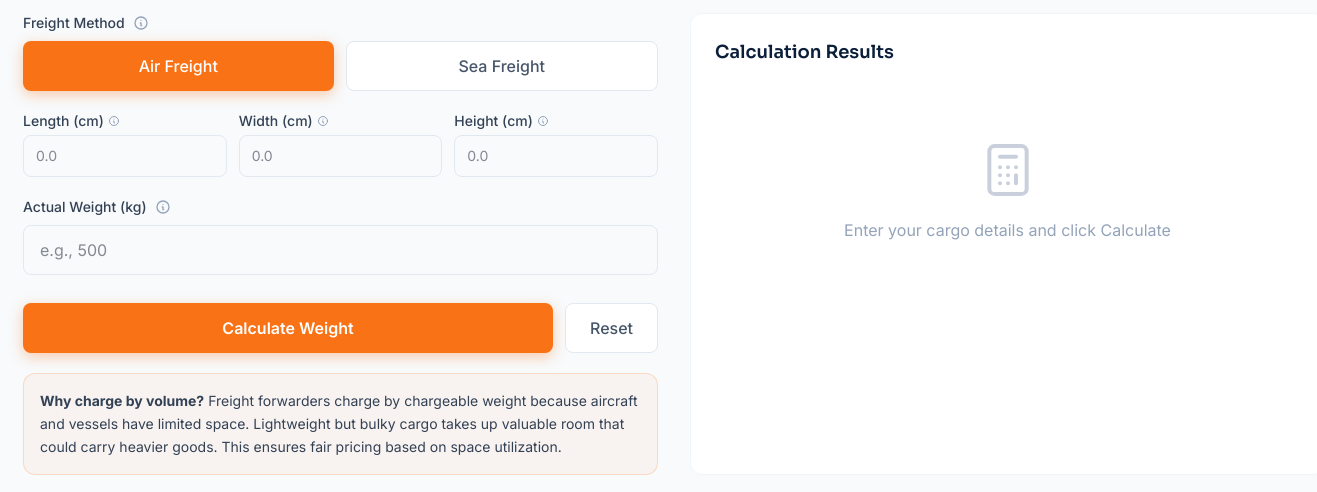
Test: ChargeableWeightCalculator › calculates dimensional weight correctly for air freight
Type "100" into the number field named "length in centimeters" at (125, 156), box x1=23 y1=135 x2=227 y2=177
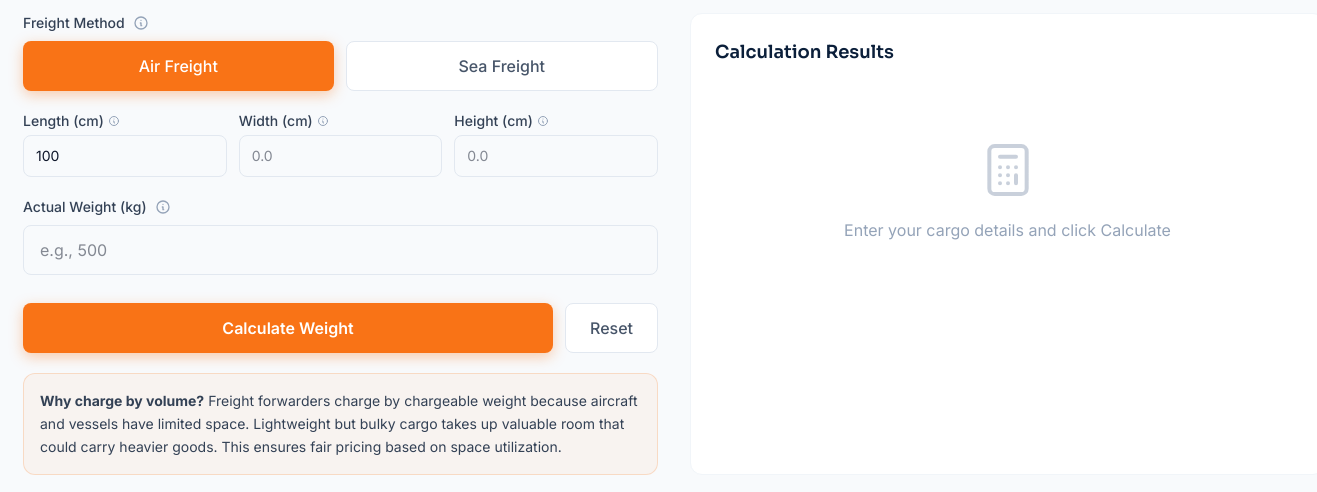
Type "100" into the number field named "width in centimeters" at (341, 156), box x1=239 y1=135 x2=442 y2=177
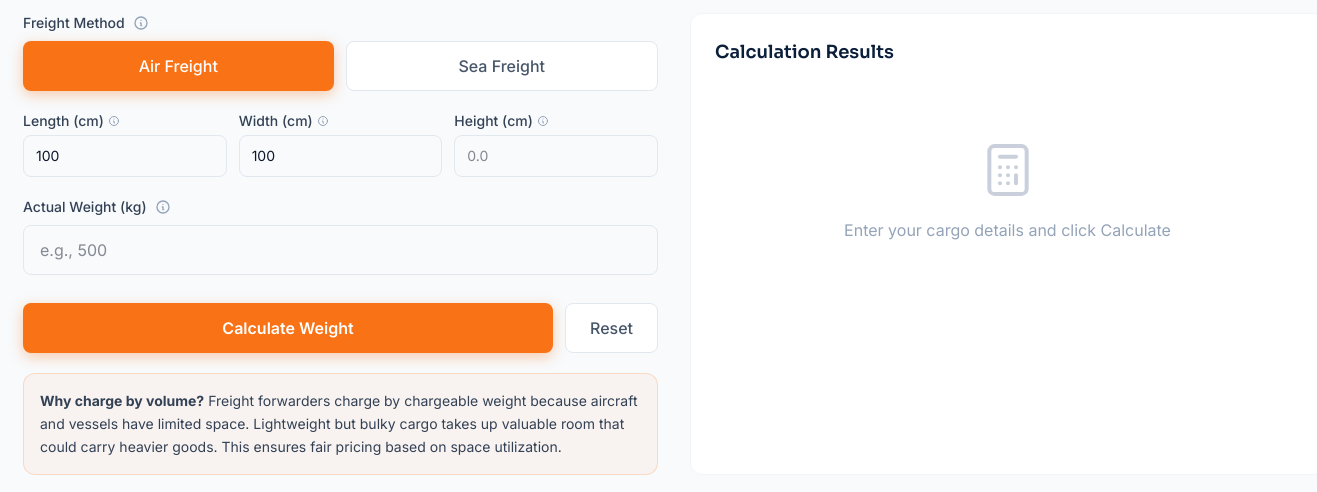
Type "100" into the number field named "height in centimeters" at (556, 156), box x1=454 y1=135 x2=658 y2=177
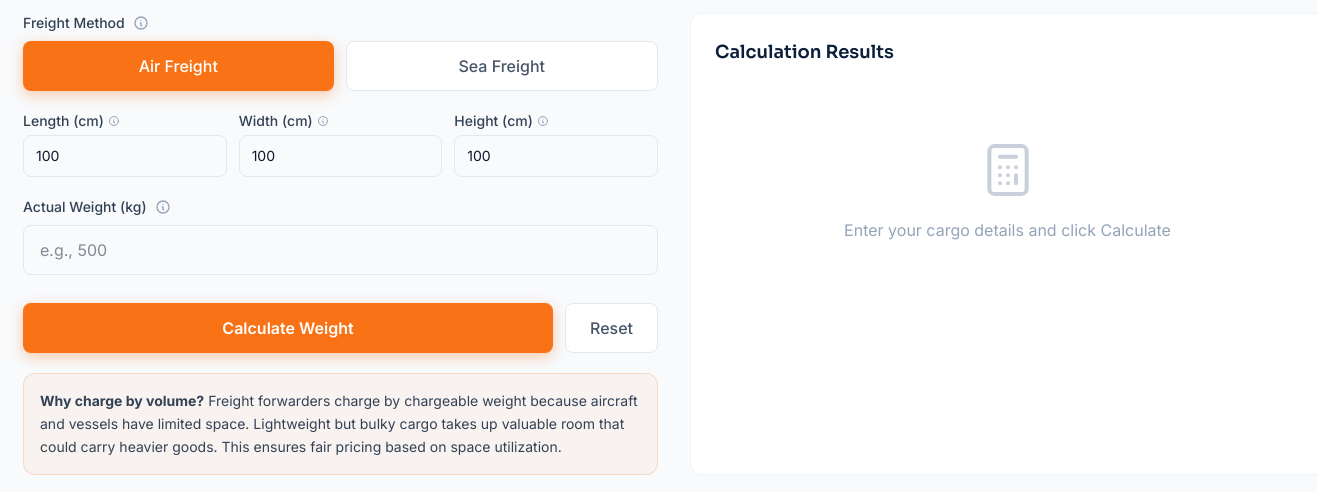
Type "50" into the number field named "actual weight in kilograms" at (340, 250), box x1=23 y1=225 x2=658 y2=275
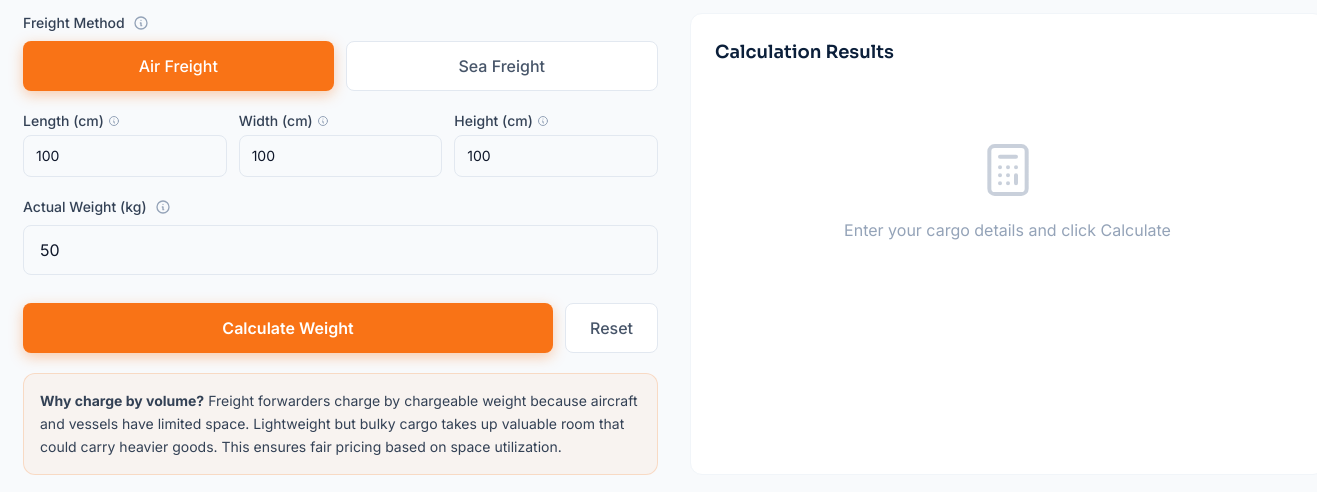
Click the button "Calculate Weight" at (288, 328), box x1=23 y1=303 x2=553 y2=353
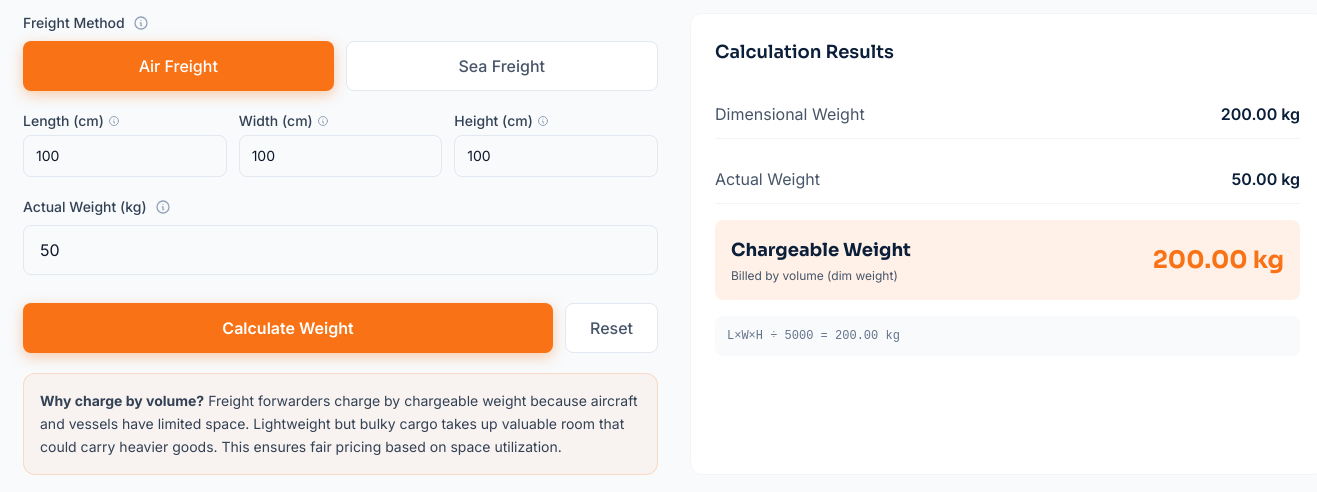
Result: the text "Billed by volume (dim weight)" is shown at x1=731 y1=268 x2=911 y2=284
